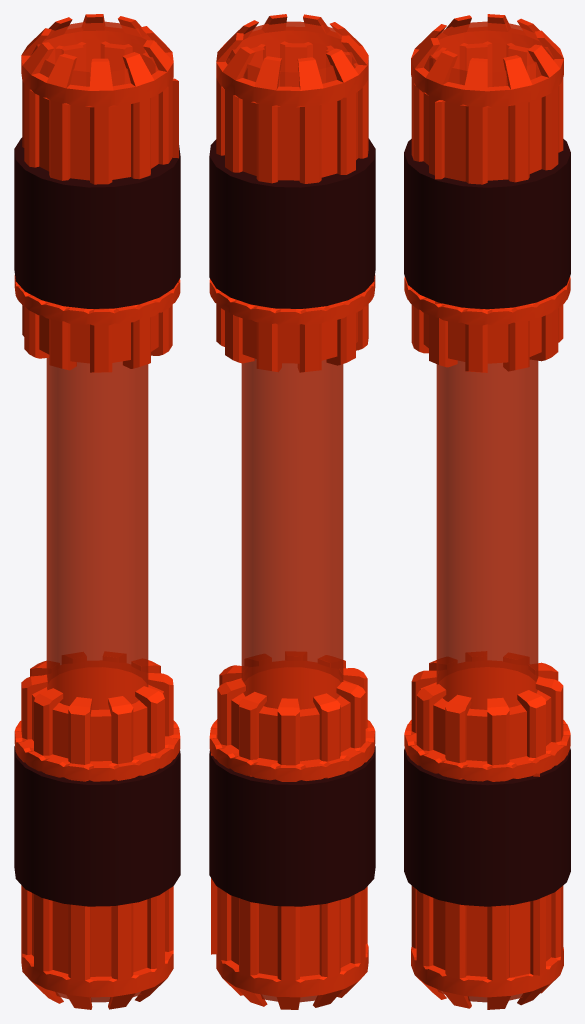
File: flarestick.fbx
3 renders of one model, left to right at view 1: azimuth 30°, elevation 25°; view 2: azimuth 150°, elevation 25°; view 3: azimuth 270°, elevation 25°, orthographic.
Visible parts, largest first — view 1: pCylinder20, pCylinder19, pCylinder7; view 2: pCylinder20, pCylinder19, pCylinder7; view 3: pCylinder20, pCylinder19, pCylinder7.
Part boxes in pixels (<box>): pCylinder20: <box>14,14,180,372</box>; pCylinder19: <box>14,656,180,1009</box>; pCylinder7: <box>46,358,148,709</box>; pCylinder20: <box>209,14,375,372</box>; pCylinder19: <box>209,656,375,1009</box>; pCylinder7: <box>241,358,343,709</box>; pCylinder20: <box>404,14,570,372</box>; pCylinder19: <box>404,655,570,1009</box>; pCylinder7: <box>436,359,538,709</box>.
Size of the model in its own units: 2.49 by 15.6 by 2.49.
